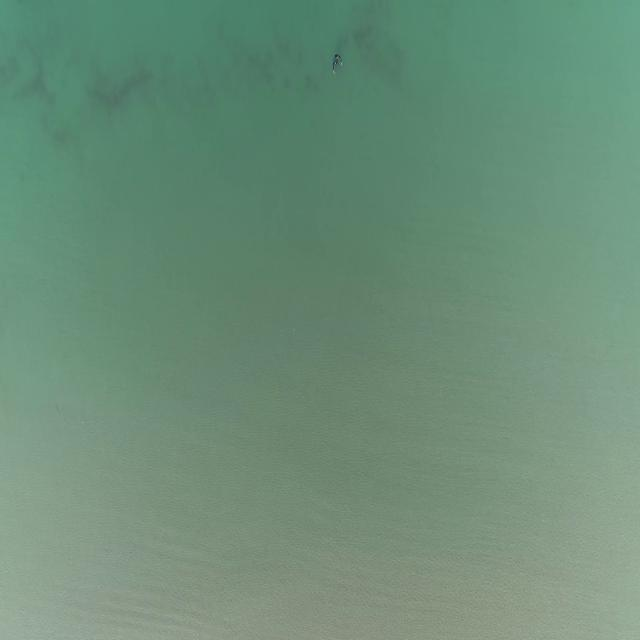person: (331, 54, 345, 74)
